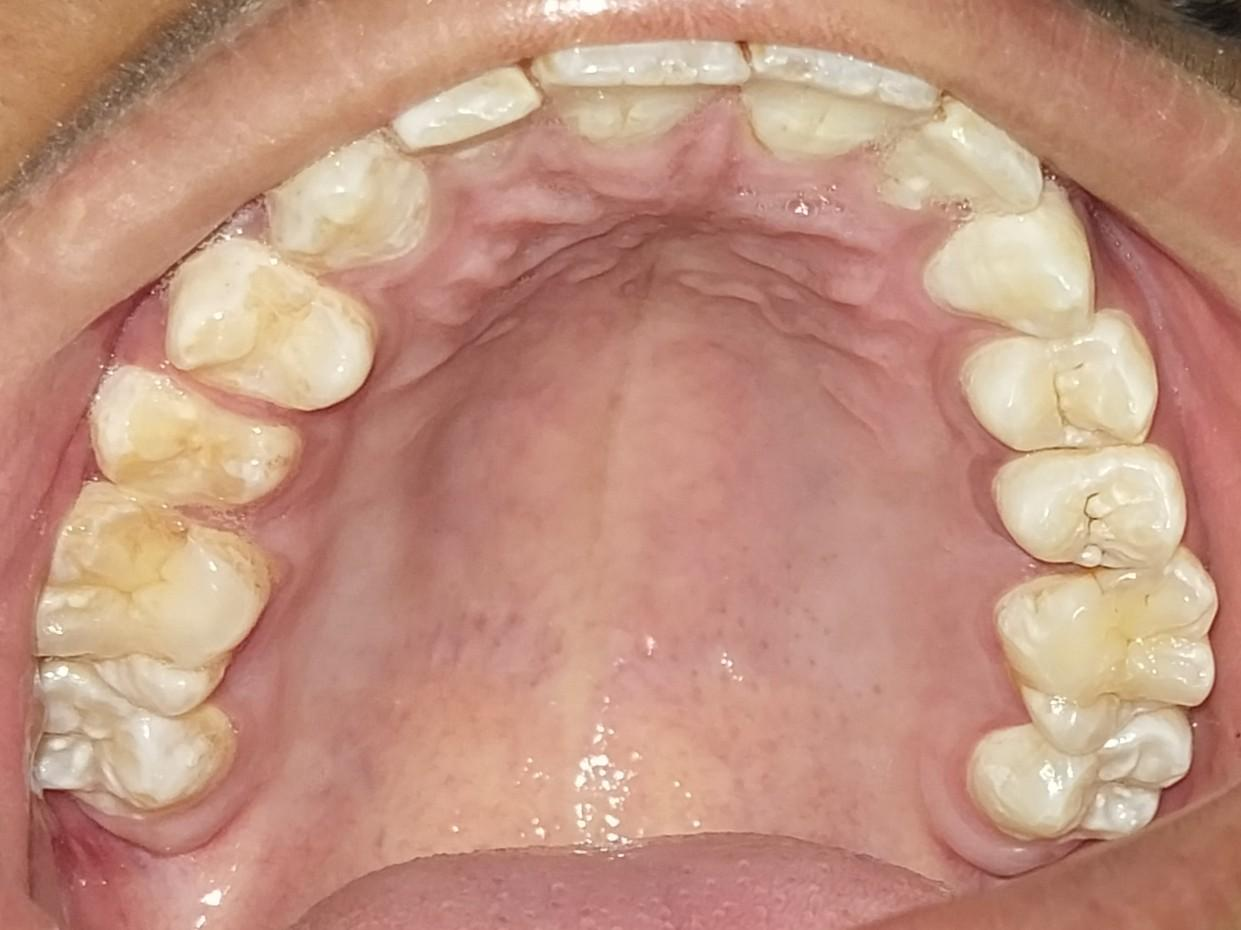D: (995, 445, 1183, 573)
